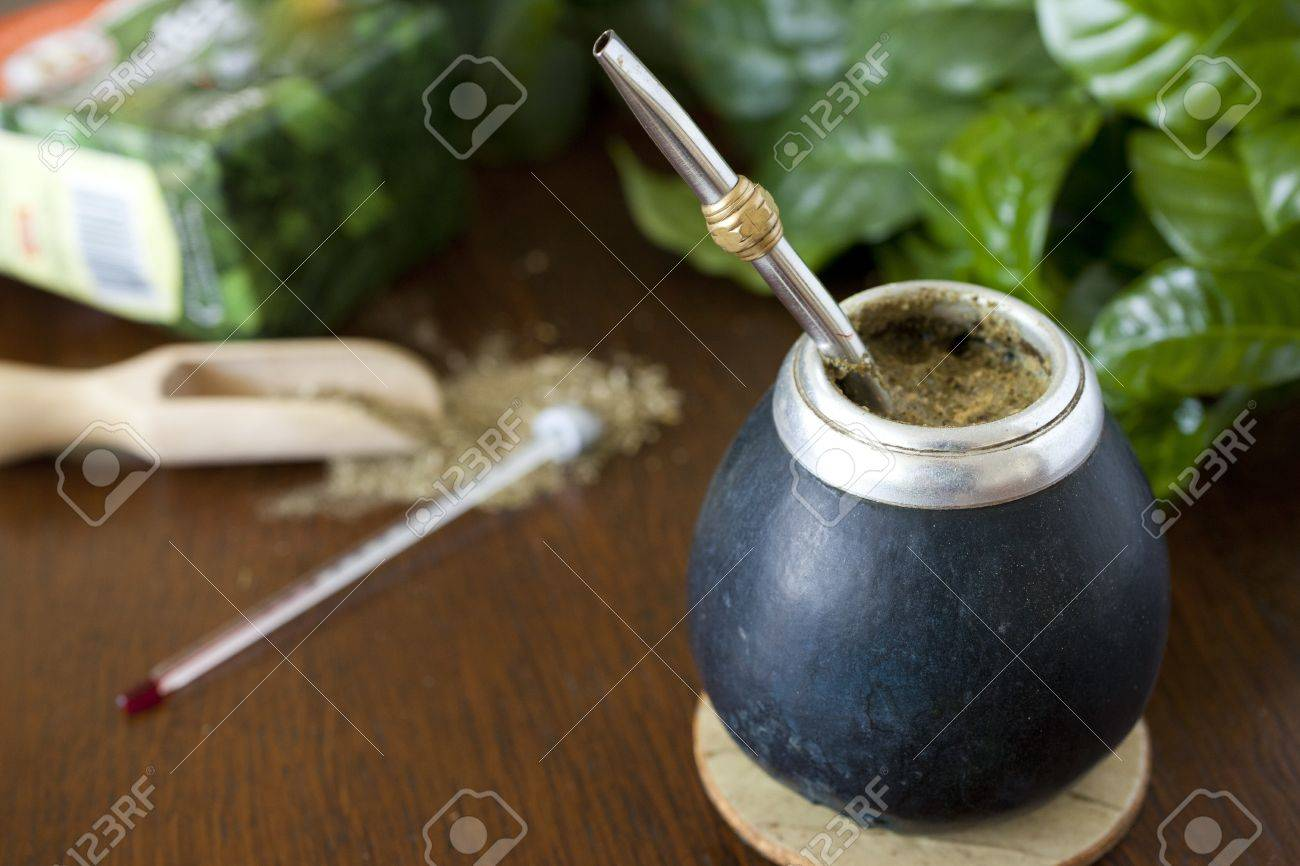guampa: (521, 11, 1180, 864)
